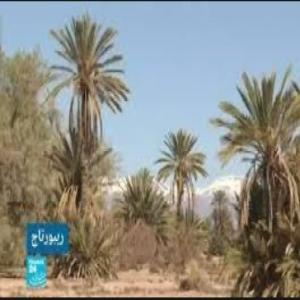palm tree: (154, 127, 208, 224)
